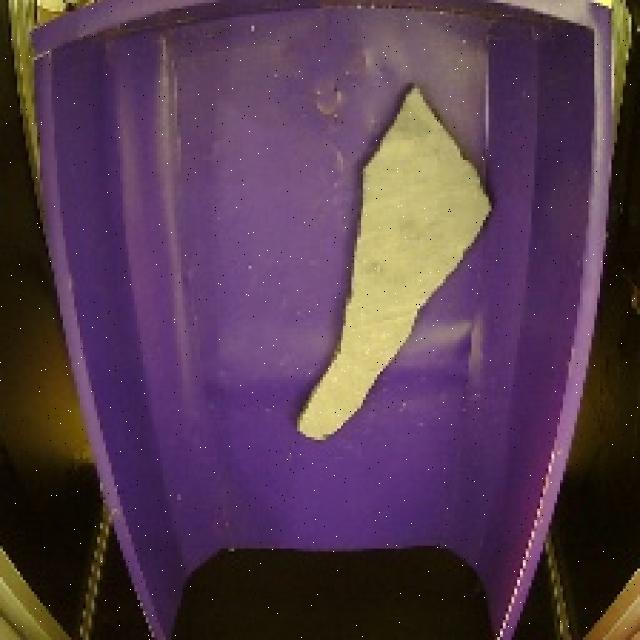china: (286, 76, 506, 452)
